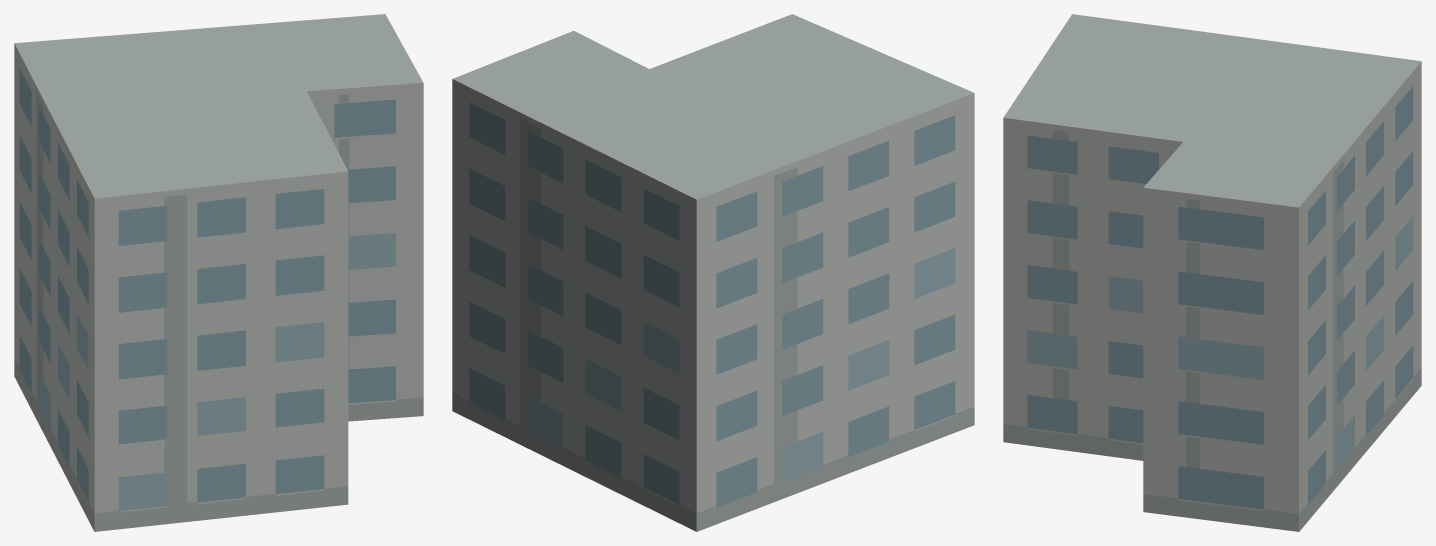
The model's file is survey-upis-32789949.glb.
3 renders of one model, left to right at view 1: azimuth 30°, elevation 25°; view 2: azimuth 150°, elevation 25°; view 3: azimuth 270°, elevation 25°, orthographic. The views are drawn at different scales.
Parts seen in each view (by area): view 1: survey-upis-32789949.tmp; view 2: survey-upis-32789949.tmp; view 3: survey-upis-32789949.tmp.
Part boxes in pixels (box(x1,y1,x2,y2)): survey-upis-32789949.tmp: box(14, 14, 423, 531); survey-upis-32789949.tmp: box(452, 14, 974, 531); survey-upis-32789949.tmp: box(1003, 14, 1421, 531).
Bounding box in the file's own units: 17.55 × 13.71 × 16.03.
